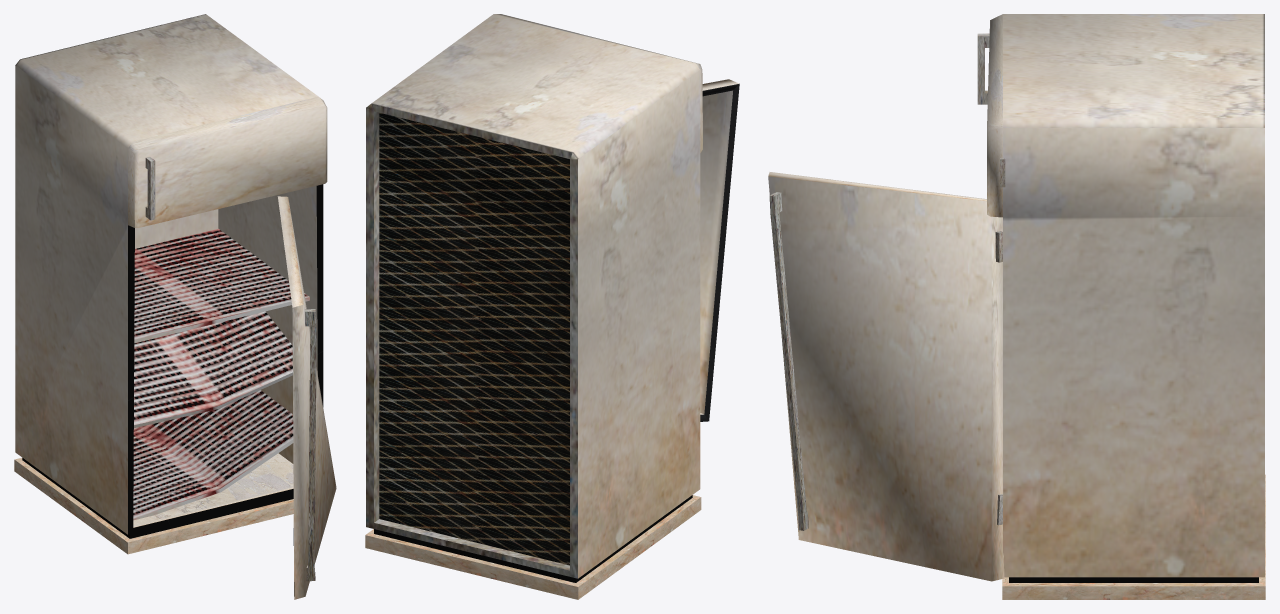
File: M_Home_Garden_fridge1.fbx
3 views of the same model, side by side, from view 1: azimuth 30°, elevation 25°; view 2: azimuth 150°, elevation 25°; view 3: azimuth 270°, elevation 25° (orthographic). The views are drawn at different scales.
Visible parts, largest first — view 1: M_Home_Garden_fridge1; view 2: M_Home_Garden_fridge1; view 3: M_Home_Garden_fridge1.
Part boxes in pixels (left/top/right/bottom): M_Home_Garden_fridge1: left=14, top=14, right=336, bottom=599; M_Home_Garden_fridge1: left=365, top=14, right=739, bottom=599; M_Home_Garden_fridge1: left=768, top=14, right=1265, bottom=599.
Bounding box in the file's own units: 89.77 × 173 × 163.
